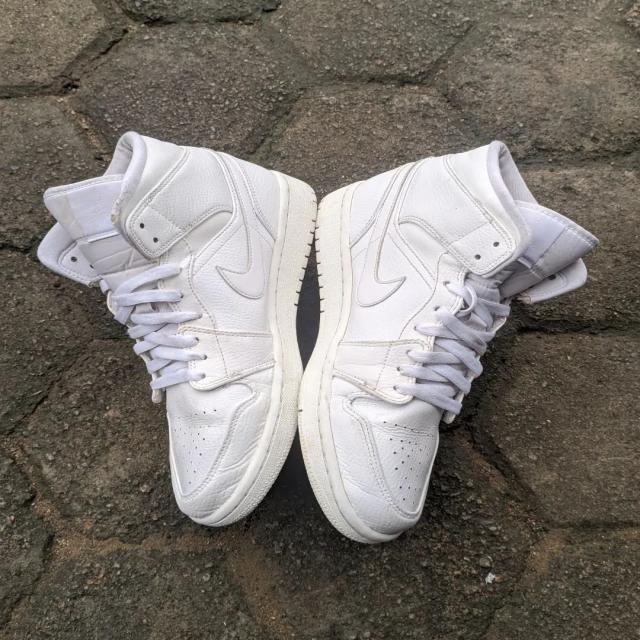nike fake jordan 1: (298, 153, 592, 551), (28, 132, 314, 524)
